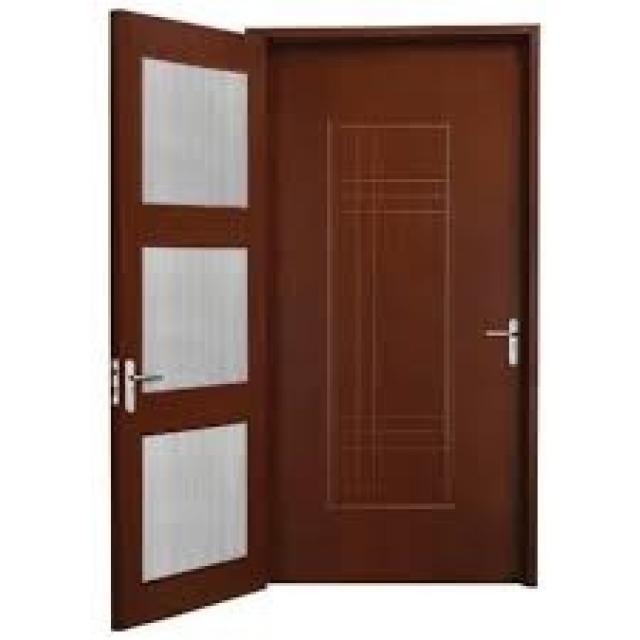Door: (250, 29, 535, 578)
